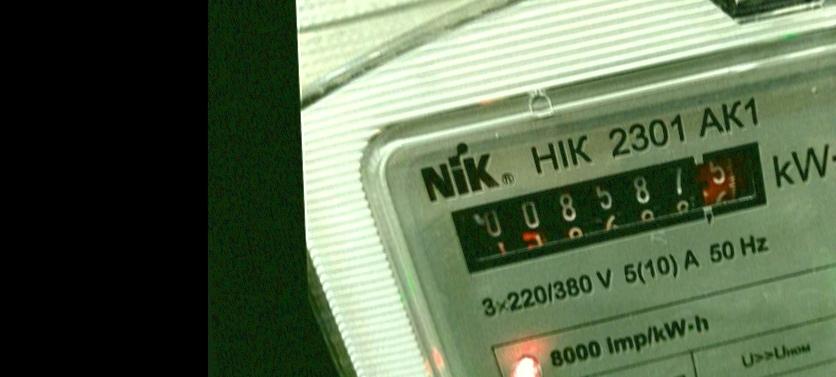0: (518, 195, 545, 230), (480, 205, 507, 238)
5: (593, 179, 617, 211), (706, 153, 729, 184)
6: (712, 188, 731, 205)
7: (667, 163, 691, 198)
8: (556, 190, 582, 223), (630, 172, 654, 206)
screen: (441, 139, 792, 275)
